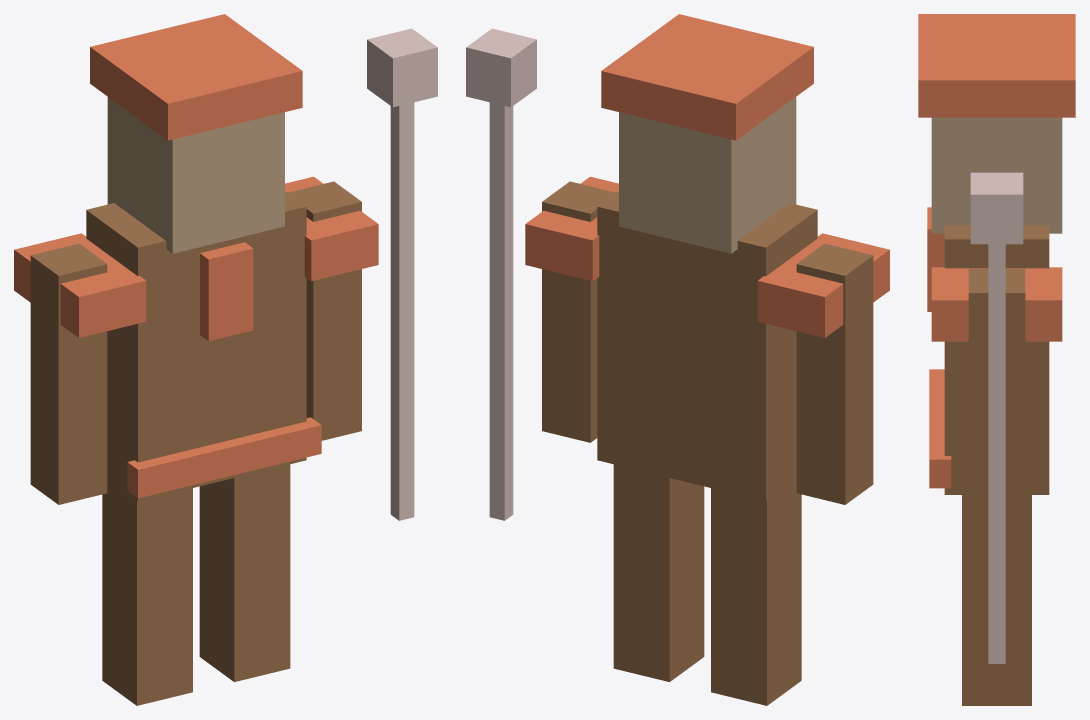
File: 14_isolde_latchward_oracle_of_scholar.glb
3 renders of one model, left to right at view 1: azimuth 30°, elevation 25°; view 2: azimuth 150°, elevation 25°; view 3: azimuth 270°, elevation 25°, orthographic.
Visible parts, largest first — view 1: Isolde Latchward, Oracle of Scholar; view 2: Isolde Latchward, Oracle of Scholar; view 3: Isolde Latchward, Oracle of Scholar.
Part boxes in pixels (x1=…): Isolde Latchward, Oracle of Scholar: x1=14, y1=14, x2=437, y2=705; Isolde Latchward, Oracle of Scholar: x1=466, y1=14, x2=889, y2=705; Isolde Latchward, Oracle of Scholar: x1=918, y1=14, x2=1075, y2=705.
Size of the model in its own units: 1.03 by 1.6 by 0.3669.
